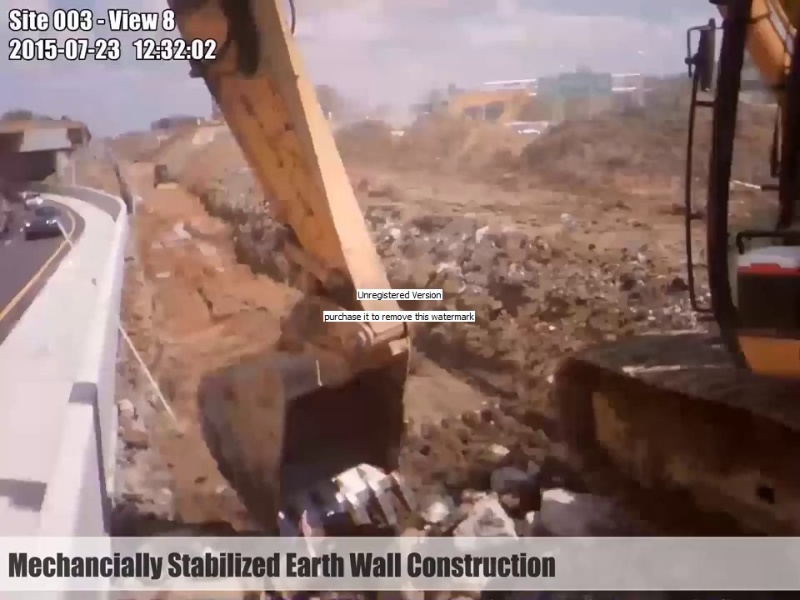excavator: (165, 1, 800, 535)
